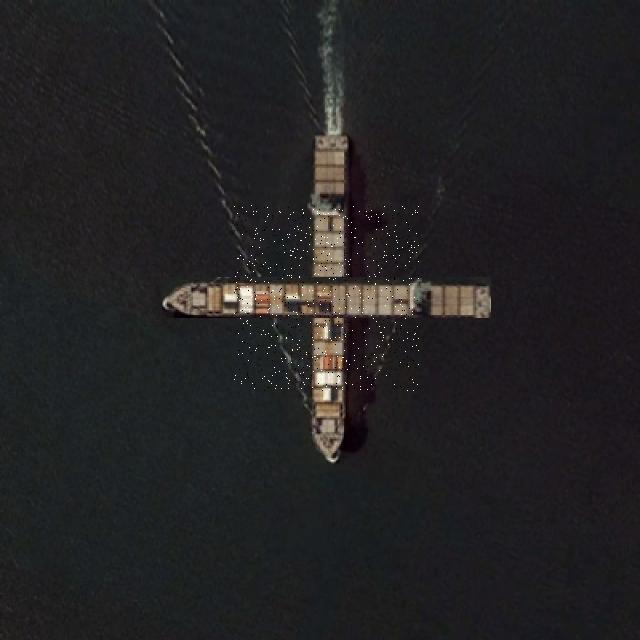boat: (234, 205, 419, 391)
